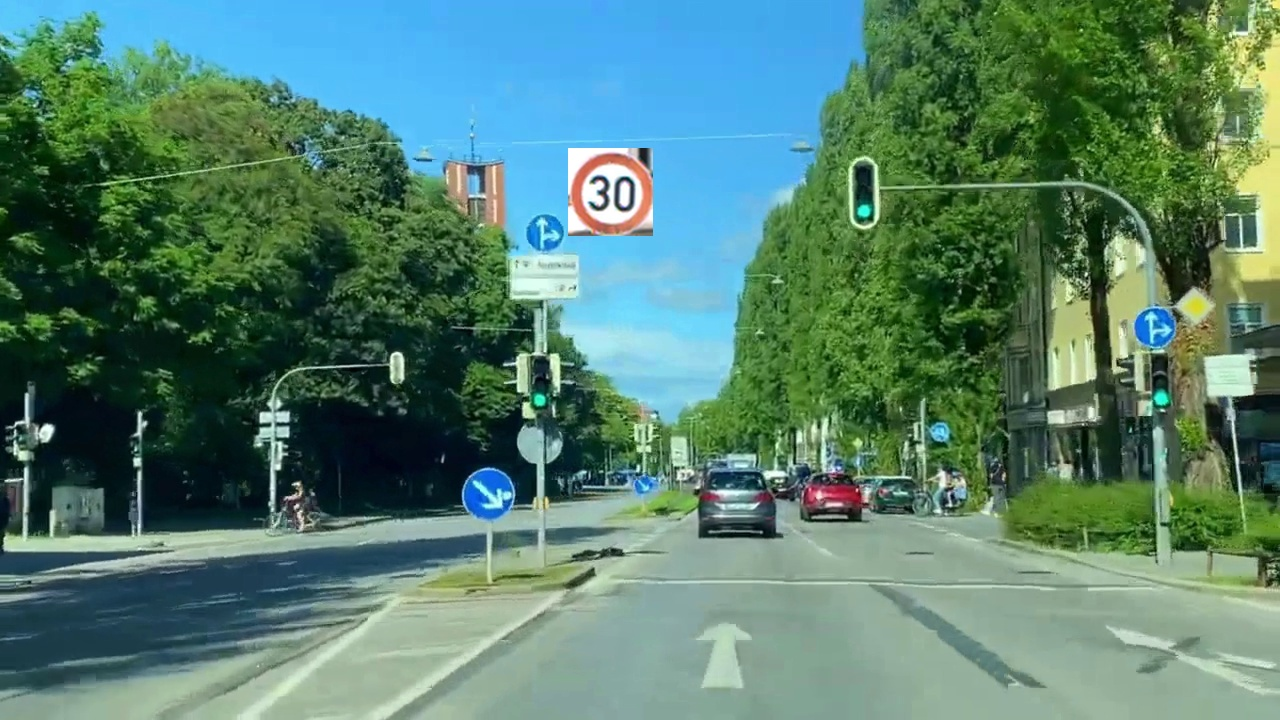Speed 30: (568, 148, 653, 236)
